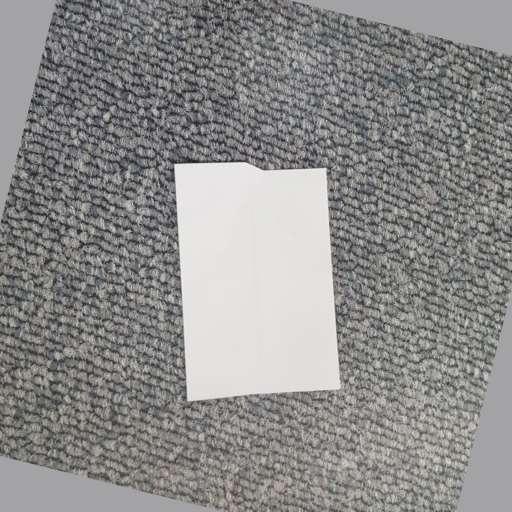Paper_2: (158, 143, 360, 416)
